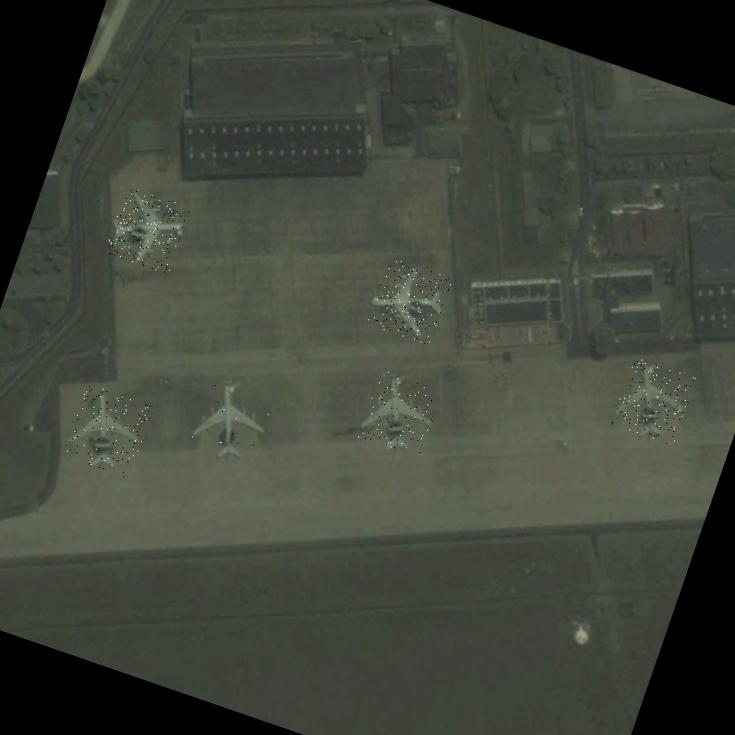A7: (61, 382, 153, 478), (188, 374, 278, 468), (356, 368, 443, 458), (104, 184, 190, 274), (610, 356, 696, 445), (366, 256, 452, 344)
